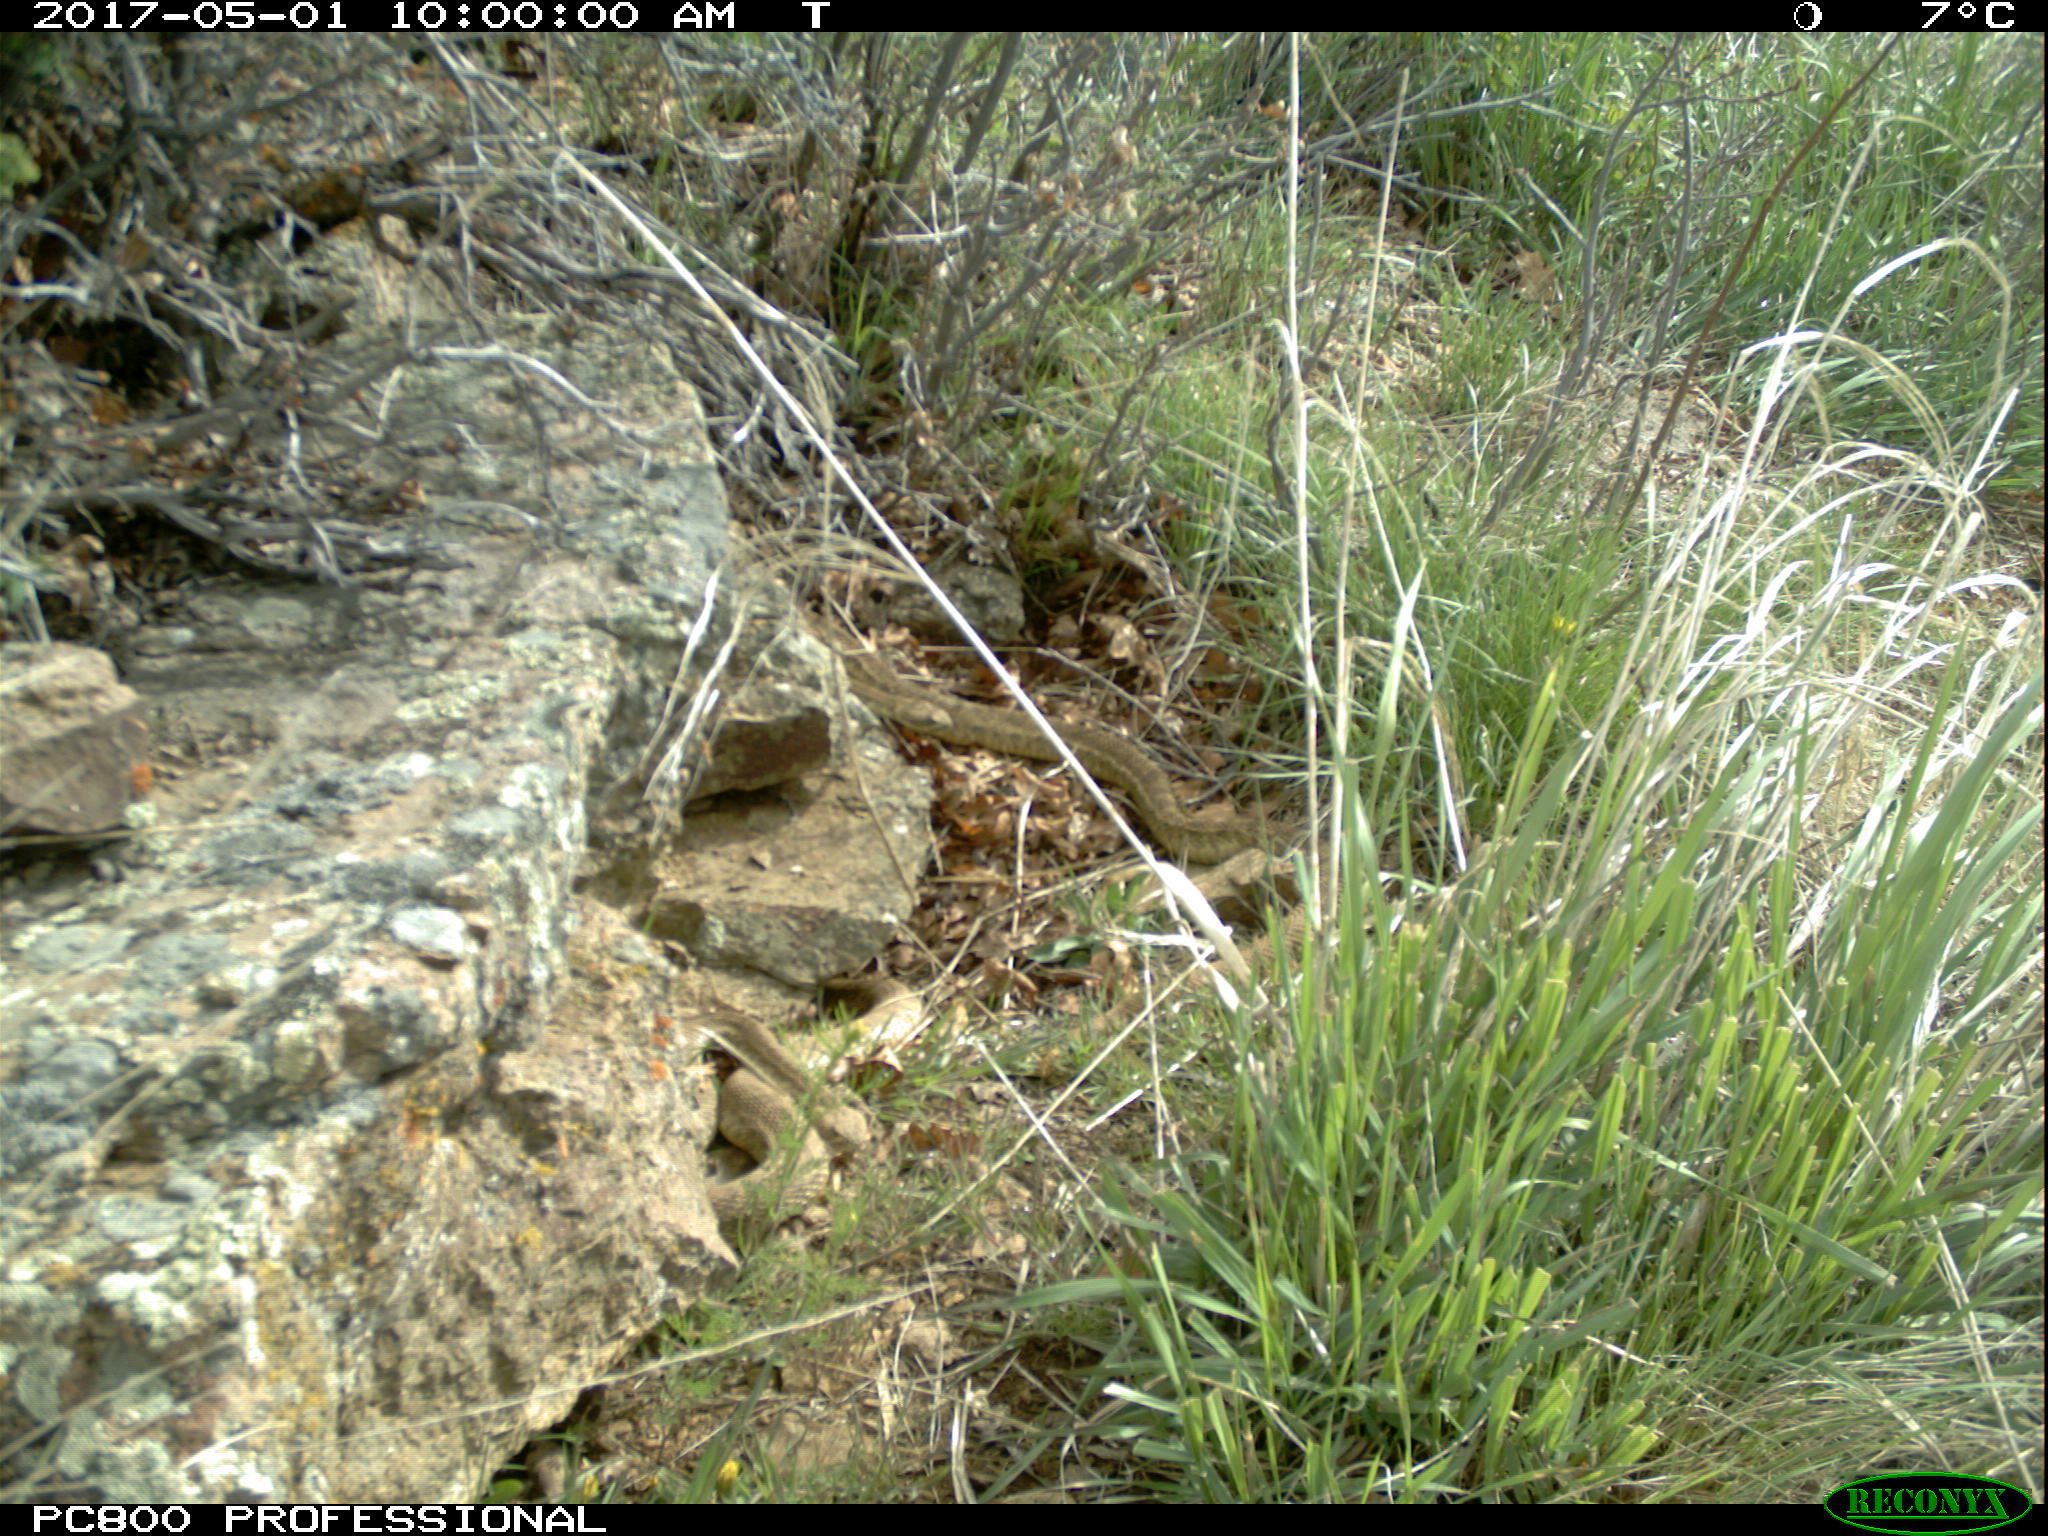snake: (797, 600, 1335, 879), (697, 963, 953, 1236)
